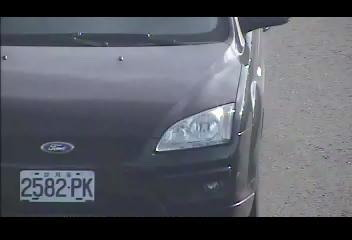plate: (18, 168, 96, 203)
